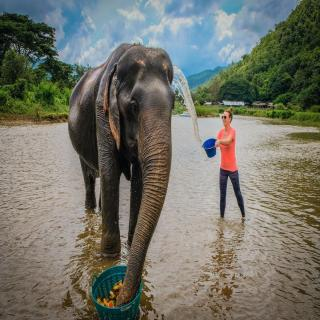Elephant: (65, 40, 180, 312)
